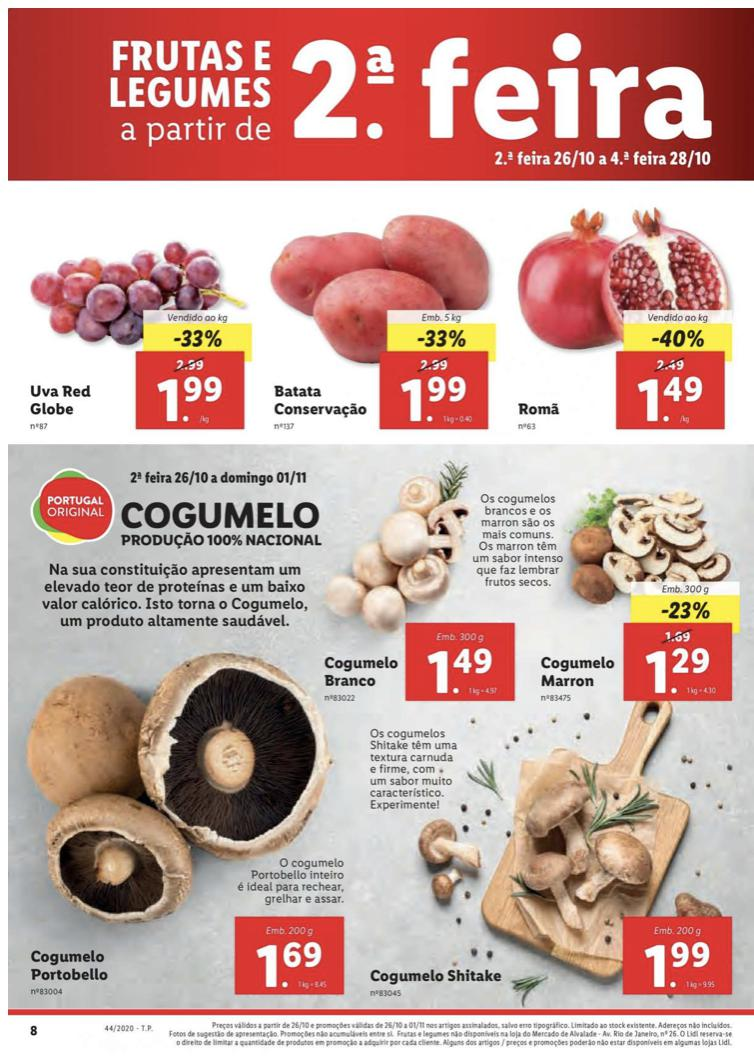name: (269, 379, 371, 420), (365, 963, 507, 988), (25, 948, 114, 984), (535, 653, 617, 692), (320, 654, 400, 690), (28, 380, 94, 417), (511, 396, 566, 420)
price: (423, 642, 499, 698), (153, 370, 224, 428), (398, 370, 474, 424), (641, 937, 714, 991), (254, 937, 325, 991), (637, 373, 708, 424), (645, 644, 710, 695)
product: (15, 650, 349, 999), (357, 719, 741, 1005), (265, 203, 523, 437), (296, 445, 519, 713), (529, 461, 753, 715), (503, 200, 745, 433), (24, 229, 258, 437)
